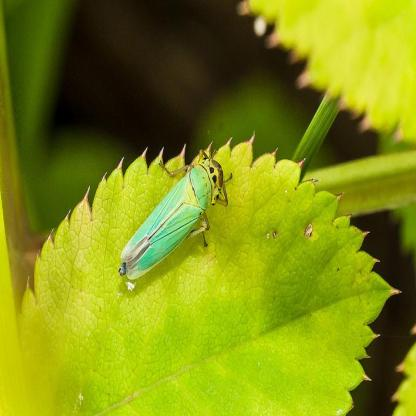Green-Leafhopper: (118, 147, 233, 289)
